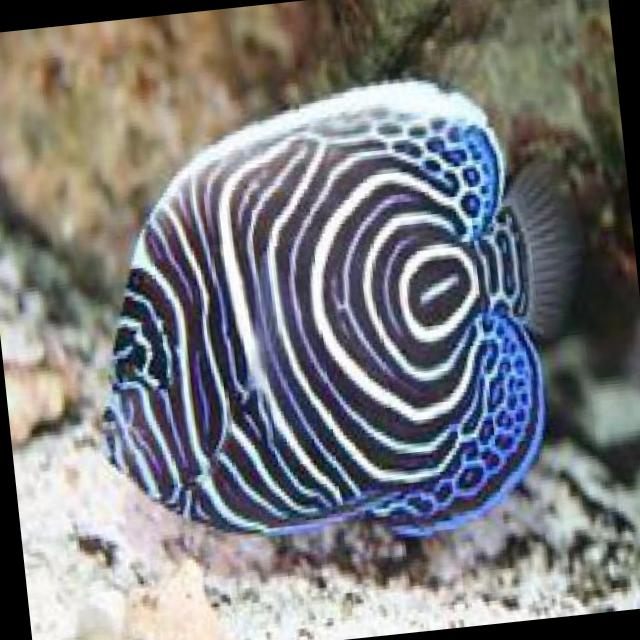AngelFish: (69, 61, 611, 566)
